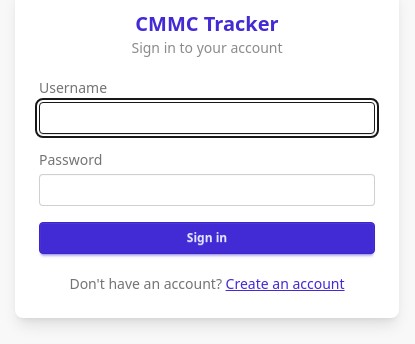
Test: LoginPage › disables submit button while loading
Type "testuser" into the field labelled "Username". click: x=207, y=118
box: [39,102,375,134]
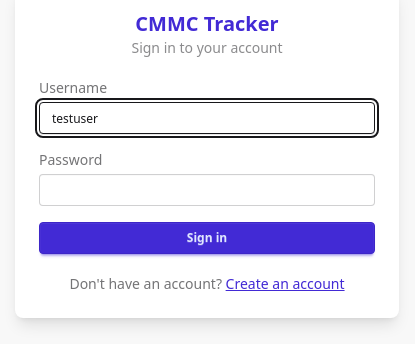
Type "password123" into the password field labelled "Password". click: x=207, y=190
box: [39,174,375,206]
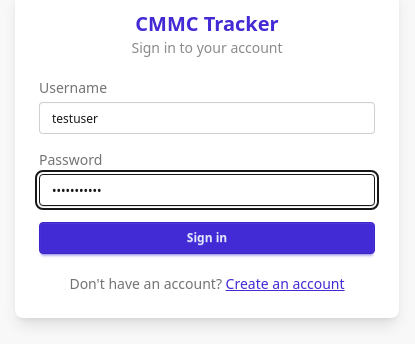
Click the button "Sign in". click: x=207, y=238
box: [39,222,375,254]
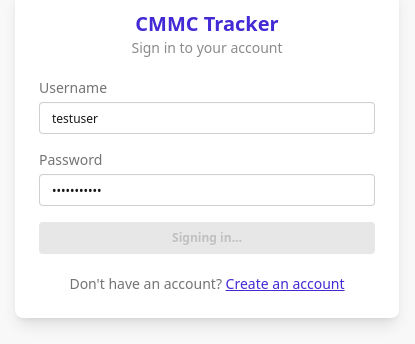
Now the button "Signing in..." is disabled, box [39,222,375,254]
